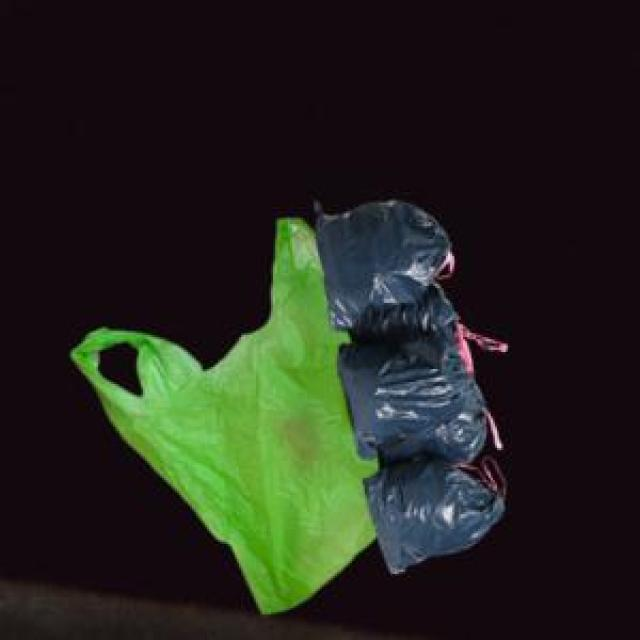miscellaneous trash: (312, 196, 499, 570)
